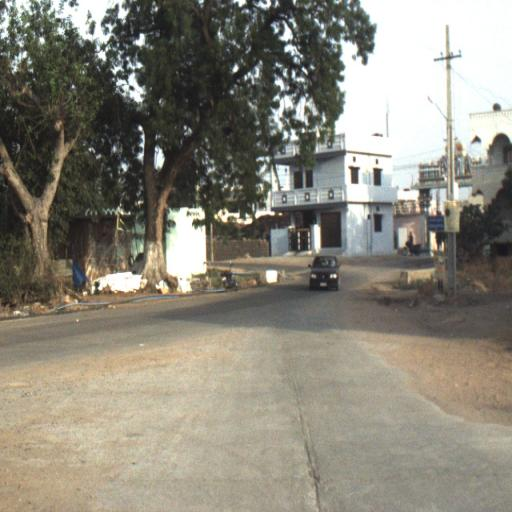street_light_0: (427, 94, 454, 138)
